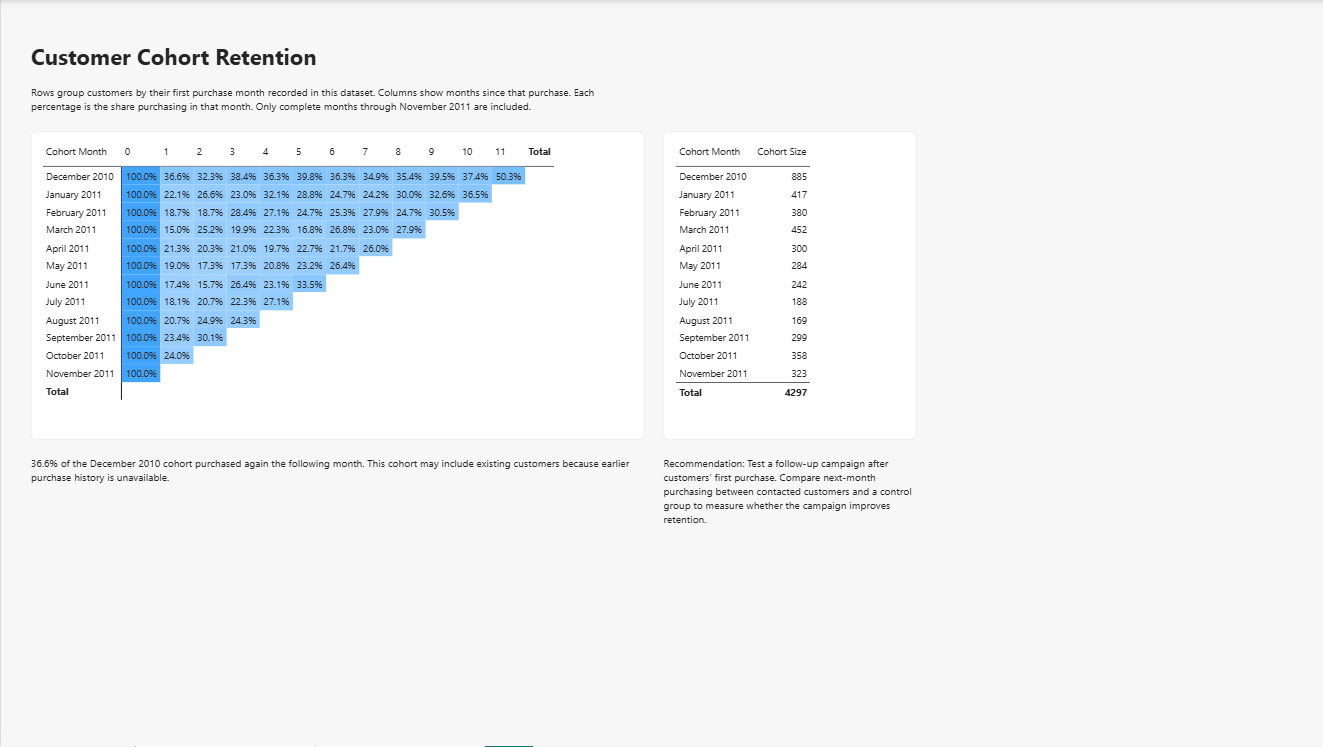

The dashboard page shown, as its layout file describes it:
{"tool":"powerbi","page":{"name":"Cohort Retention","canvas":[1920,1080],"ordinal":1},"visuals":[{"type":"pivotTable","fields":{"Columns":["Purchases.Months Since First Purchase"],"Rows":["Purchases.Cohort Month"],"Values":["Purchases.Cohort Retention Rate"]},"box":[43.3,190,888,446],"z":0},{"type":"textbox","box":[43.3,60,443.3,63.3],"z":1},{"type":"textbox","box":[43.3,123.3,886.7,43.3],"z":2},{"type":"tableEx","fields":{"Values":["Purchases.Cohort Month","Purchases.Cohort Size"]},"box":[960,190,366.7,446.7],"z":3},{"type":"textbox","box":[43.3,660,886.7,53.3],"z":4},{"type":"textbox","box":[960,660,367,150],"z":5}]}

Visuals, with their boxes in screenshot pixels (x1, y1, x2, y2), scaled from the page's 1920x1080 canvas onto the 1323x747 screenshot:
pivotTable - Purchases.Months Since First Purchase x Purchases.Cohort Month: [left=30, top=131, right=642, bottom=440]
textbox: [left=30, top=42, right=335, bottom=85]
textbox: [left=30, top=85, right=641, bottom=115]
tableEx - Purchases.Cohort Month x Purchases.Cohort Size: [left=662, top=131, right=914, bottom=440]
textbox: [left=30, top=456, right=641, bottom=493]
textbox: [left=662, top=456, right=914, bottom=560]
